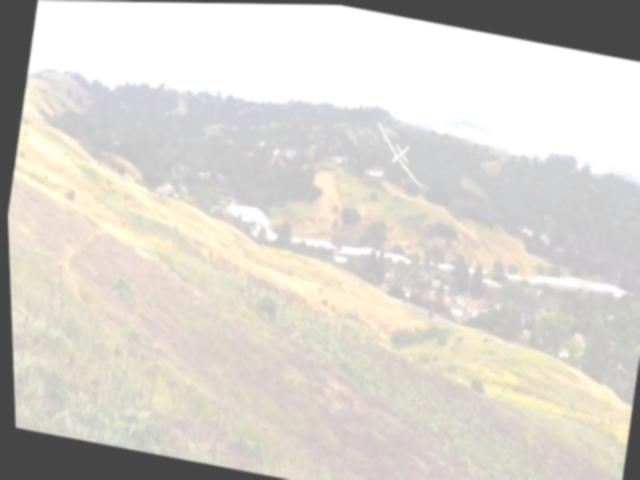iha: (365, 120, 427, 189)
